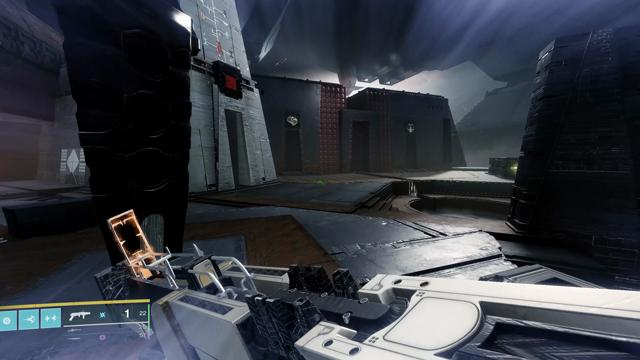brain: (286, 115, 300, 128)
drink: (406, 122, 416, 134)
stop: (221, 70, 239, 95)
